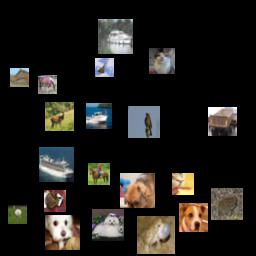airplane: (95, 58, 114, 77)
bird: (128, 106, 160, 138), (8, 205, 27, 224)
cat: (149, 48, 175, 74), (44, 190, 66, 212), (172, 173, 194, 195)
deer: (45, 102, 74, 131)
dog: (45, 215, 80, 250), (120, 173, 155, 208), (92, 209, 124, 241), (179, 203, 208, 232)
frog: (137, 216, 175, 254), (211, 188, 243, 220)
ship: (39, 147, 74, 182), (98, 19, 133, 54), (86, 103, 112, 129)
truck: (208, 107, 237, 136)
